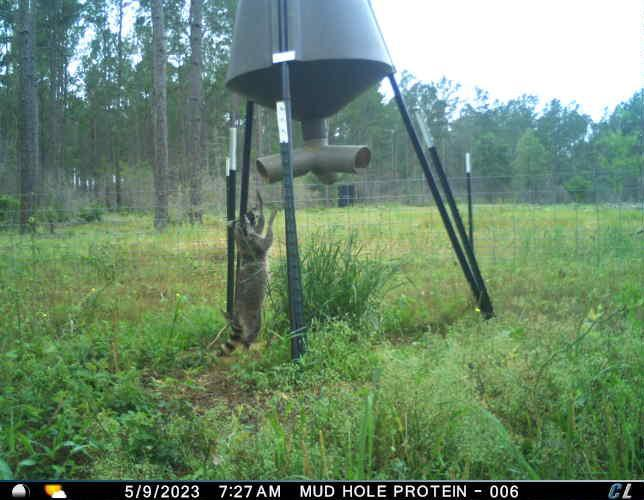Raccoon: (210, 197, 281, 359)
